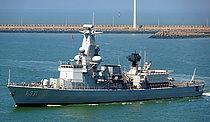MIL_Ship: (5, 23, 205, 104)
